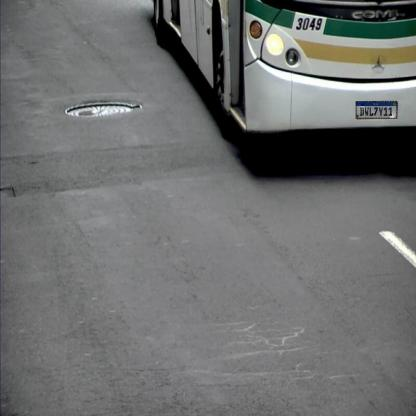PlacaM: (356, 101, 397, 119)
